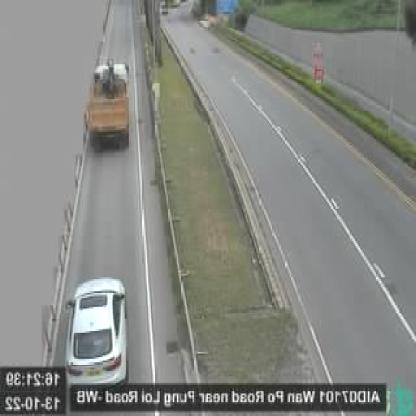Car: (63, 276, 128, 392)
Truck: (86, 57, 130, 153)
